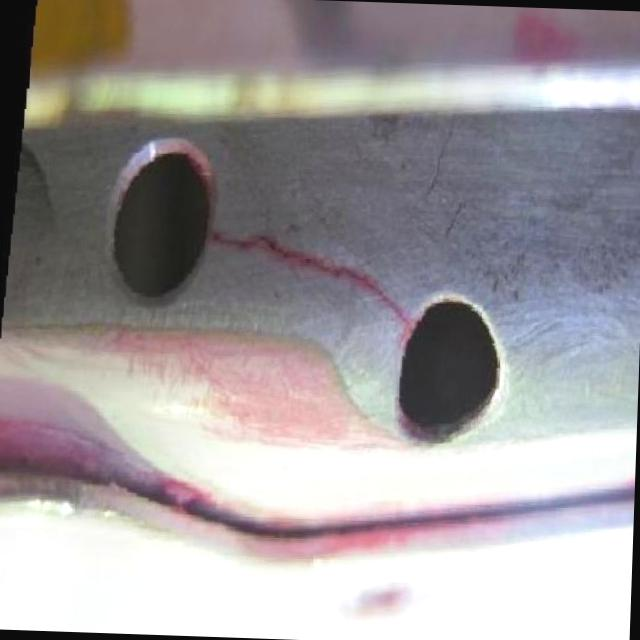crack: (286, 256, 367, 284), (210, 229, 288, 257), (365, 284, 412, 328)
